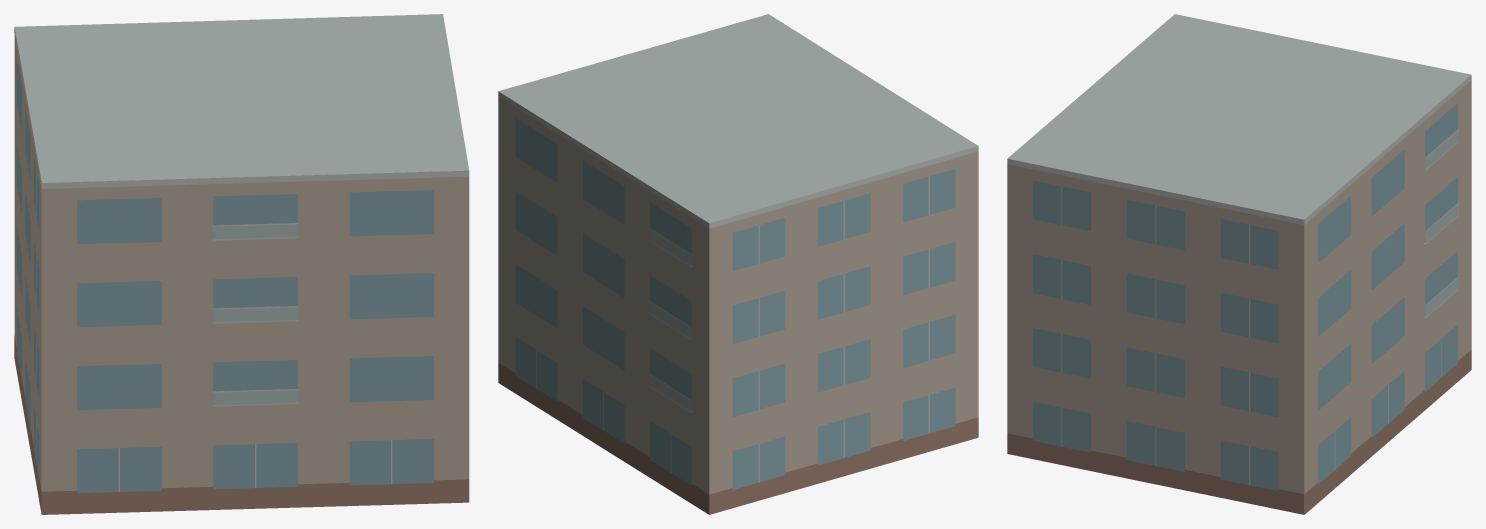
Rendered from survey-upis-32525596.glb.
3 views of the same model, side by side, from view 1: azimuth 30°, elevation 25°; view 2: azimuth 150°, elevation 25°; view 3: azimuth 270°, elevation 25° (orthographic). The views are drawn at different scales.
Visible parts, largest first — view 1: survey-upis-32525596.tmp; view 2: survey-upis-32525596.tmp; view 3: survey-upis-32525596.tmp.
Part boxes in pixels (bbox=[...]): survey-upis-32525596.tmp: bbox=[14, 14, 469, 514]; survey-upis-32525596.tmp: bbox=[498, 14, 978, 514]; survey-upis-32525596.tmp: bbox=[1007, 14, 1471, 514].
Size of the model in its own units: 20.04 by 13.4 by 19.12.
